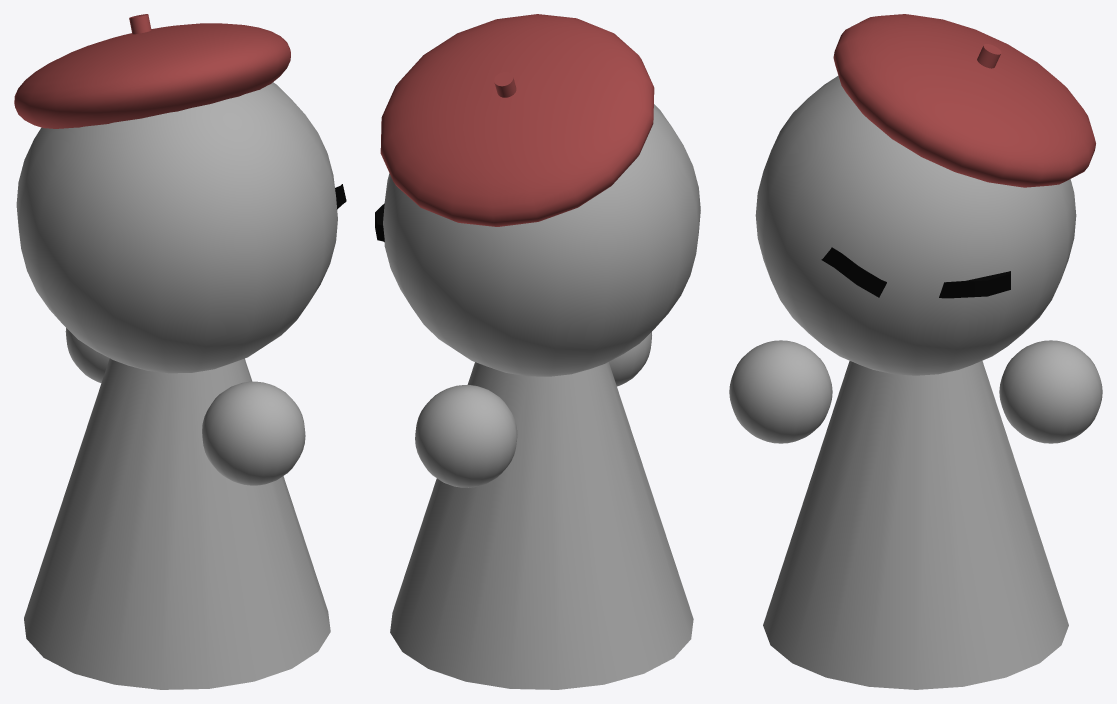
File: French_Pjäs.fbx
The picture shows the model from 3 angles, left to right: view 1: azimuth 30°, elevation 25°; view 2: azimuth 150°, elevation 25°; view 3: azimuth 270°, elevation 25°; orthographic projection.
Visible parts, largest first — view 1: pSphere5, pSphere6, pSphere20, pSphere21; view 2: pSphere5, pSphere6, pSphere21, pSphere20; view 3: pSphere5, pSphere6, pSphere20, pSphere21, pCube2, pCube1.
Part boxes in pixels (box(x1,y1,x2,y2)): pSphere5: box(16, 82, 337, 689); pSphere6: box(14, 23, 290, 128); pSphere20: box(202, 381, 305, 485); pSphere21: box(65, 328, 109, 382); pSphere5: box(383, 104, 700, 689); pSphere6: box(380, 14, 654, 226); pSphere21: box(415, 385, 517, 487); pSphere20: box(609, 332, 651, 386); pSphere5: box(755, 75, 1076, 689); pSphere6: box(833, 14, 1095, 187); pSphere20: box(729, 340, 832, 443); pSphere21: box(999, 340, 1102, 443); pCube2: box(939, 271, 1010, 298); pCube1: box(821, 247, 886, 297).
Size of the model in its own units: 2.46 by 4.98 by 2.87.
